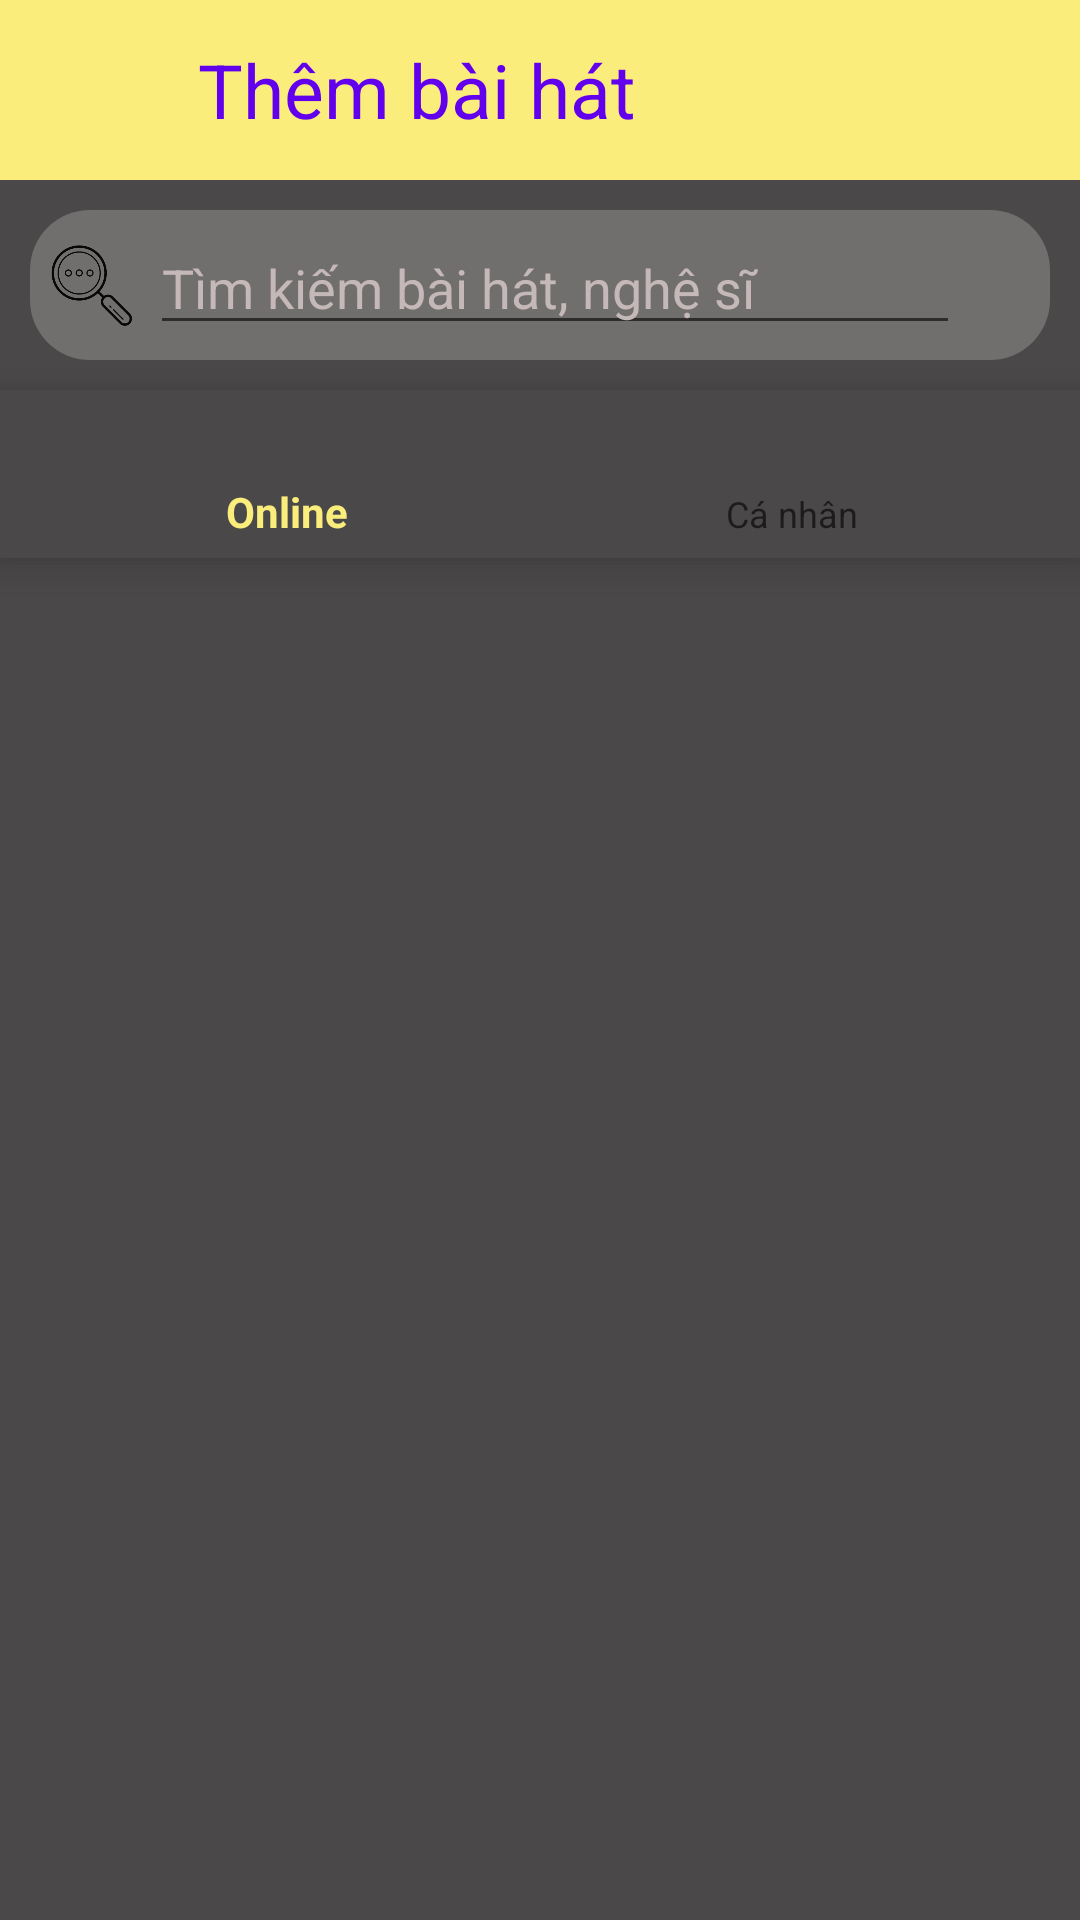

Named icons in this screenshot (1080px×1920px) and their bounding boxes, (x1, y1, x2, y2):
search: (52, 245, 132, 326)
